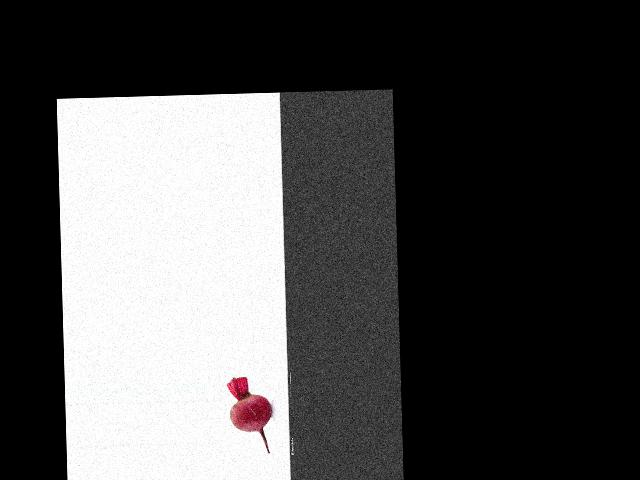beet: (227, 375, 273, 454)
